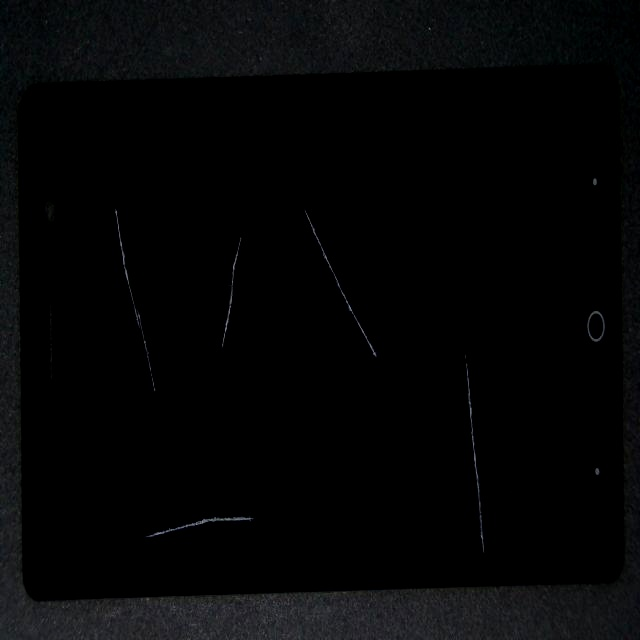scratch: (104, 20, 478, 399), (200, 244, 387, 640), (28, 0, 178, 412)
